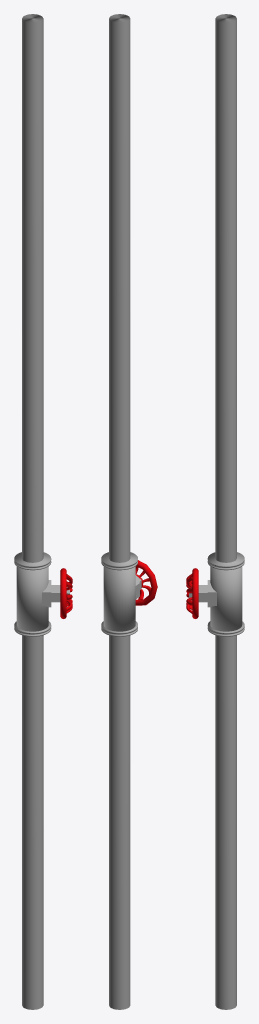
Rendered from Pipe.fbx.
The picture shows the model from 3 angles, left to right: view 1: azimuth 90°, elevation 25°; view 2: azimuth 150°, elevation 25°; view 3: azimuth 270°, elevation 25°; orthographic projection.
Visible parts, largest first — view 1: Pipe, Valve; view 2: Pipe, Valve; view 3: Pipe, Valve.
Part boxes in pixels (bbox=[...]): Pipe: bbox=[22, 14, 43, 1009]; Valve: bbox=[14, 552, 72, 636]; Pipe: bbox=[109, 14, 130, 1009]; Valve: bbox=[101, 552, 157, 636]; Pipe: bbox=[215, 14, 236, 1009]; Valve: bbox=[186, 552, 244, 636].
Bounding box in the file's own units: 13.2 × 280 × 15.03.
